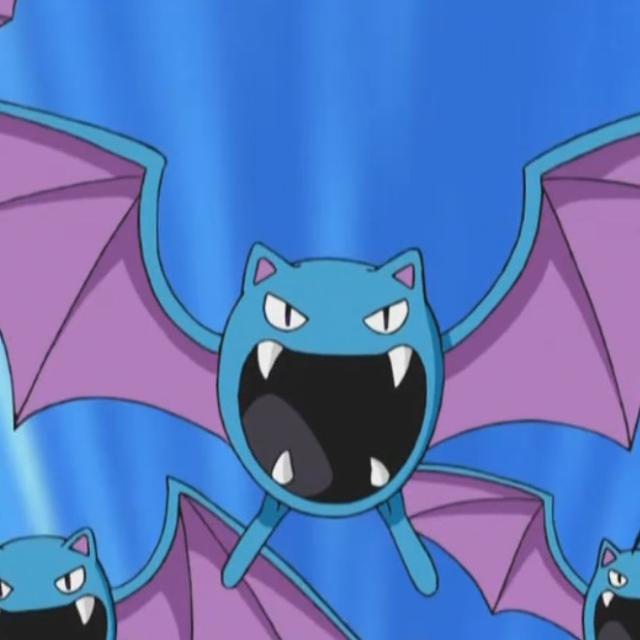Golbat: (121, 152, 512, 540)
